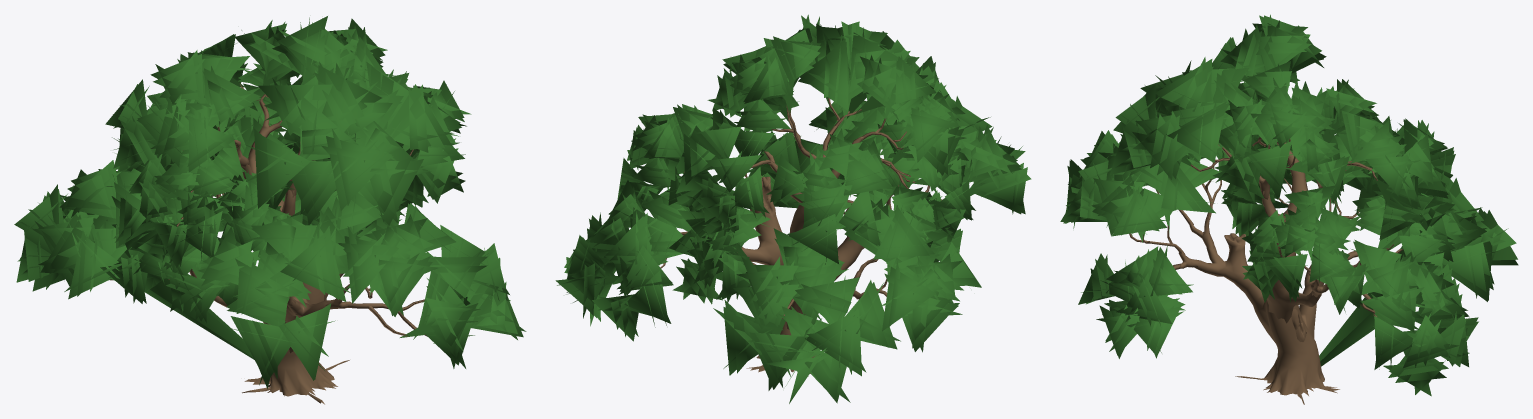
Rendered from Scholar_A.obj.
The picture shows the model from 3 angles, left to right: view 1: azimuth 30°, elevation 25°; view 2: azimuth 150°, elevation 25°; view 3: azimuth 270°, elevation 25°; orthographic projection. The views are drawn at different scales.
Parts seen in each view (by area): view 1: Leaves, Trunk; view 2: Leaves, Trunk; view 3: Leaves, Trunk.
Boxes of the visible parts, left/top/right/bottom form: Leaves: left=14, top=16, right=526, bottom=388; Trunk: left=110, top=84, right=427, bottom=404; Leaves: left=555, top=14, right=1031, bottom=403; Trunk: left=660, top=98, right=942, bottom=376; Leaves: left=1060, top=14, right=1518, bottom=396; Trunk: left=1129, top=137, right=1402, bottom=404.
Size of the model in its own units: 65.88 by 54.41 by 70.12.
